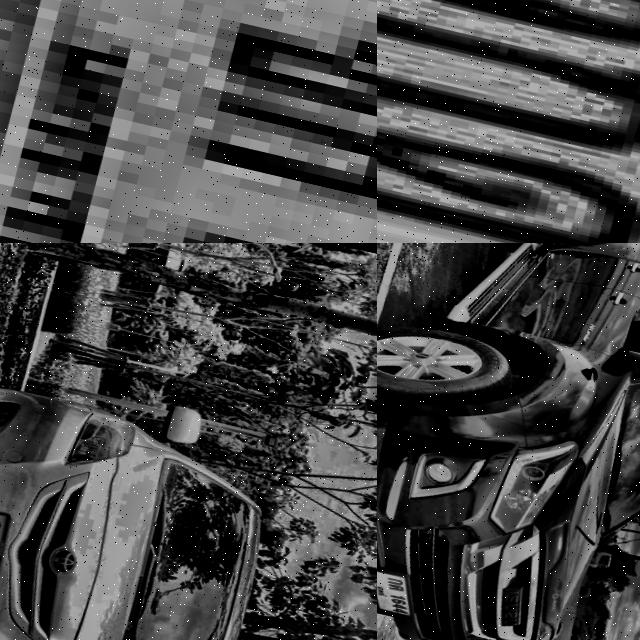license-plate: (0, 0, 377, 243), (377, 0, 640, 243), (377, 565, 429, 625), (0, 503, 16, 583)
